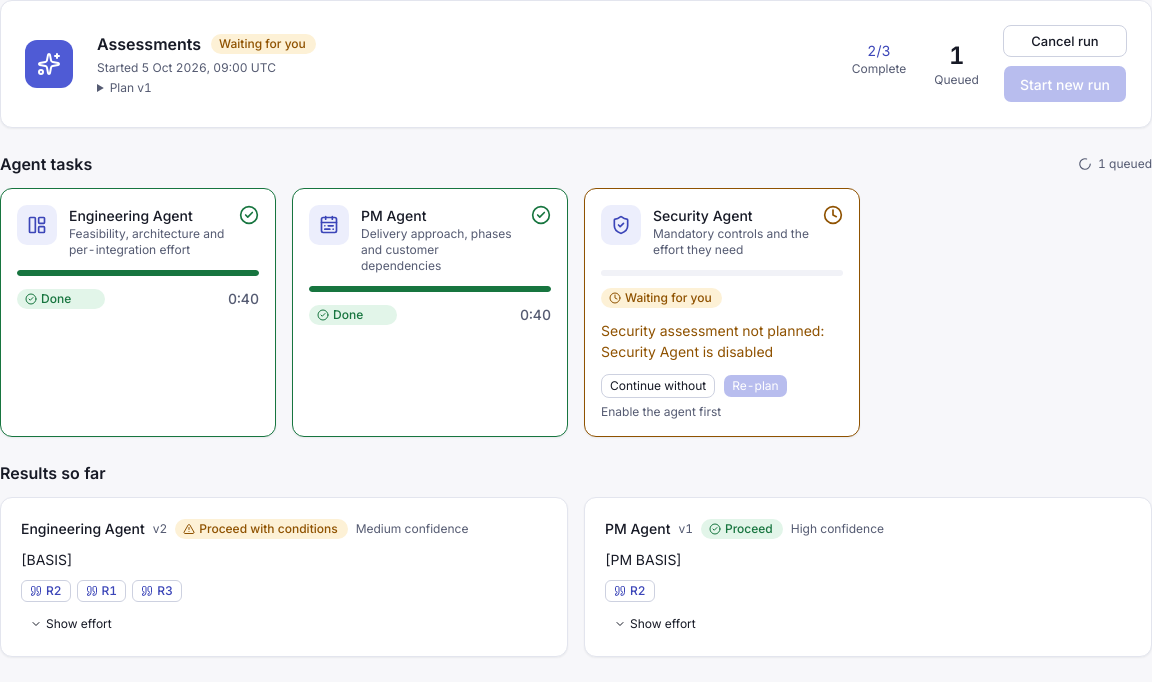
Test case: a run waiting for a person (Story 5.5) › Continue without sends the decision's version and shows the queued run
Click the button with aria-label "Continue without Security Agent": (658, 386) [601,374,715,398]
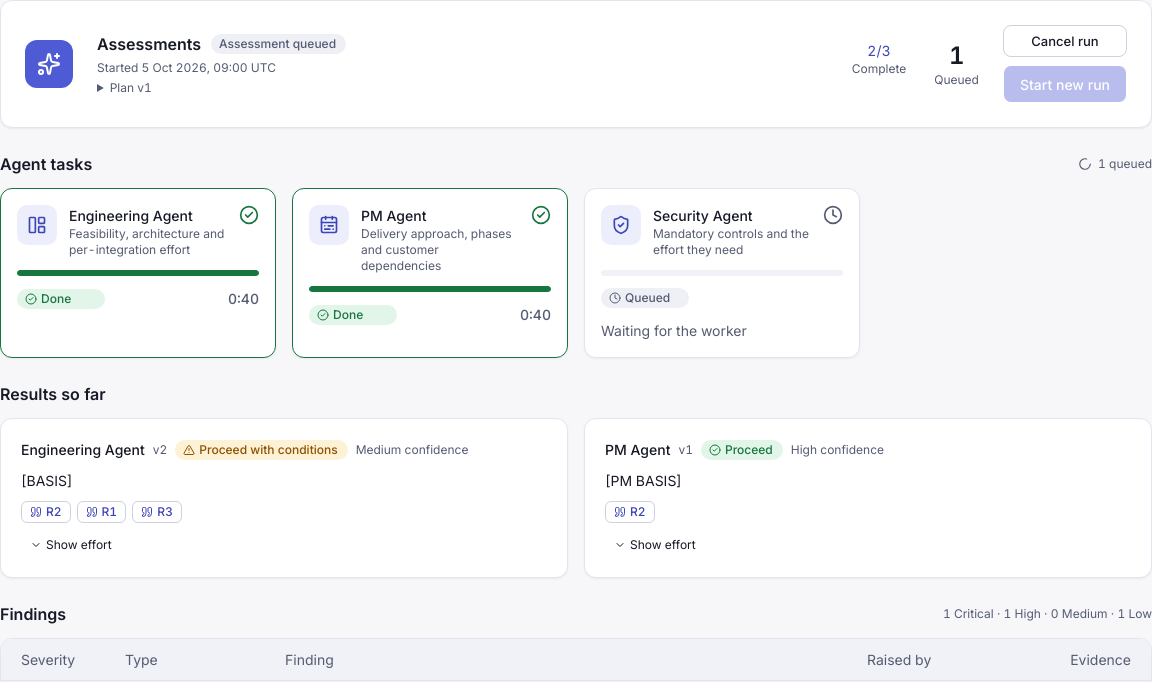
Expected: the text "Assessment queued" is shown, [211,34,346,54]
Expected: the text "Waiting for you" is gone
